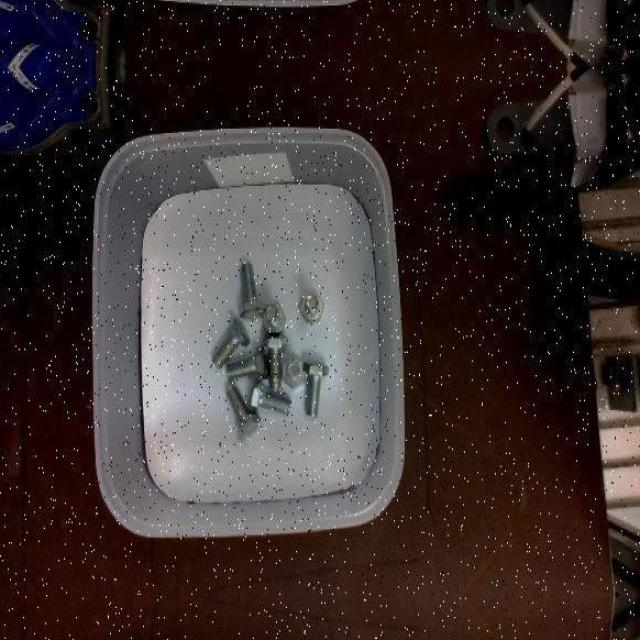screw: (211, 316, 250, 366), (226, 384, 260, 439), (302, 361, 330, 416), (263, 333, 289, 388), (250, 380, 292, 413), (227, 346, 267, 380), (238, 263, 262, 317), (299, 292, 325, 322), (282, 353, 304, 388), (263, 302, 287, 331)
